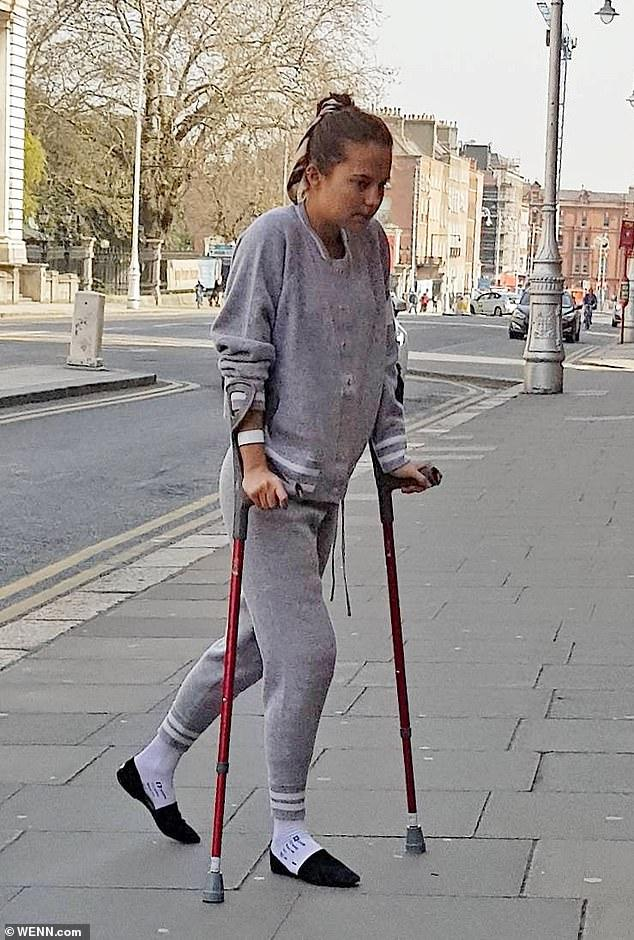crutches: (115, 89, 446, 906)
